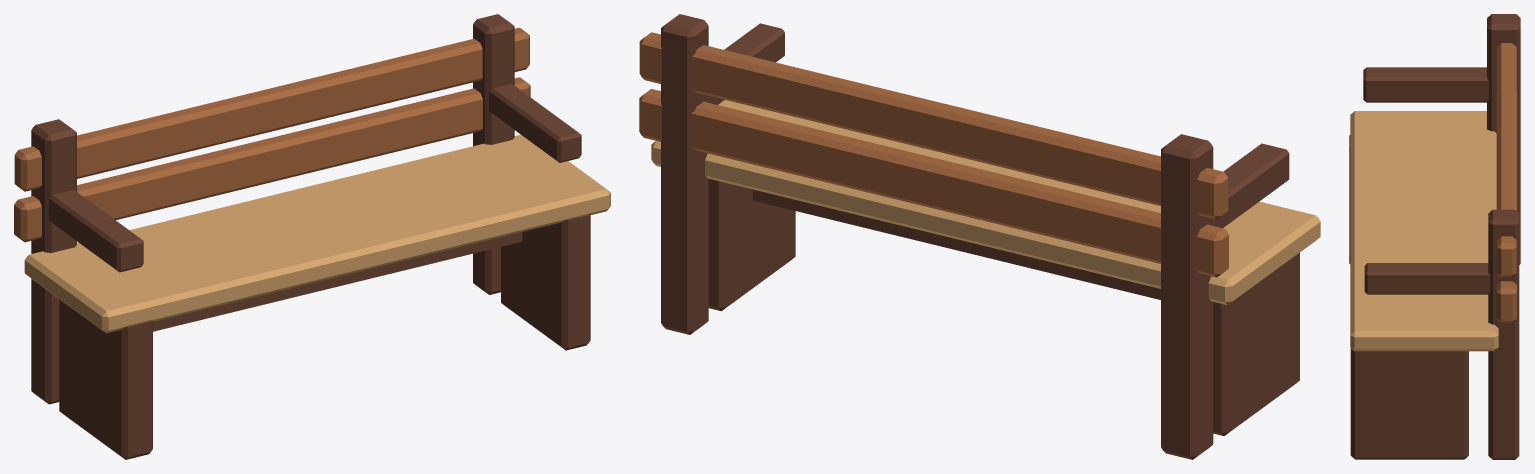
File: Bench.fbx
The picture shows the model from 3 angles, left to right: view 1: azimuth 30°, elevation 25°; view 2: azimuth 150°, elevation 25°; view 3: azimuth 270°, elevation 25°; orthographic projection. The views are drawn at different scales.
Visible parts, largest first — view 1: Bench; view 2: Bench; view 3: Bench.
Part boxes in pixels (left/top/right/bottom): Bench: left=14, top=14, right=610, bottom=459; Bench: left=639, top=14, right=1320, bottom=459; Bench: left=1349, top=14, right=1520, bottom=459.
Size of the model in its own units: 1.81 by 0.914 by 0.5829.
